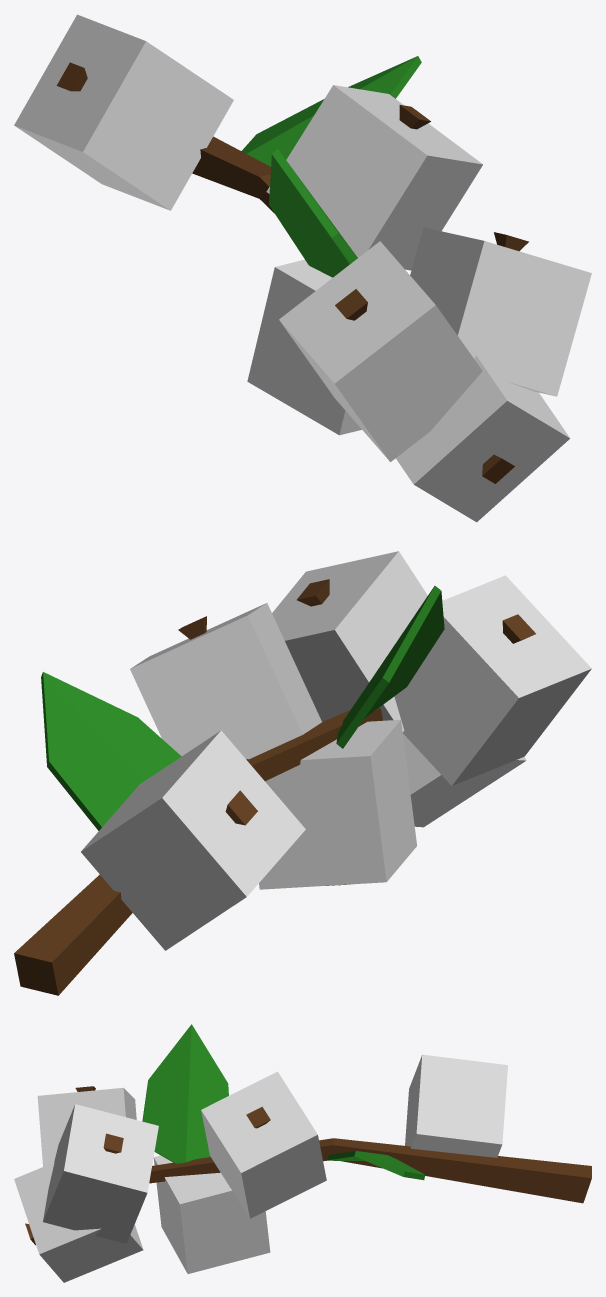
The model's file is item_winterberry.fbx.
3 views of the same model, one above another, from view 1: azimuth 30°, elevation 25°; view 2: azimuth 150°, elevation 25°; view 3: azimuth 270°, elevation 25° (orthographic). The views are drawn at different scales.
Visible parts, largest first — view 1: item_winterberry; view 2: item_winterberry; view 3: item_winterberry.
Boxes of the visible parts, x1,y1,x2,y2 form: item_winterberry: (14, 14, 591, 522); item_winterberry: (14, 551, 591, 995); item_winterberry: (14, 1024, 591, 1282).
Bounding box in the file's own units: 424 × 428 × 1001.
